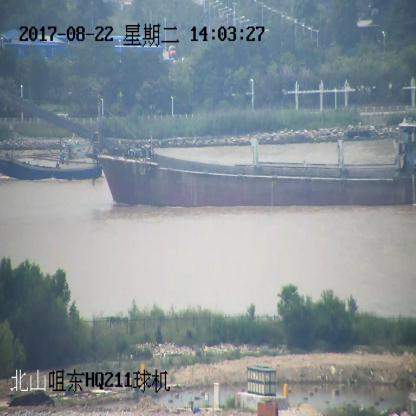Fishing Boat: (0, 139, 104, 179)
